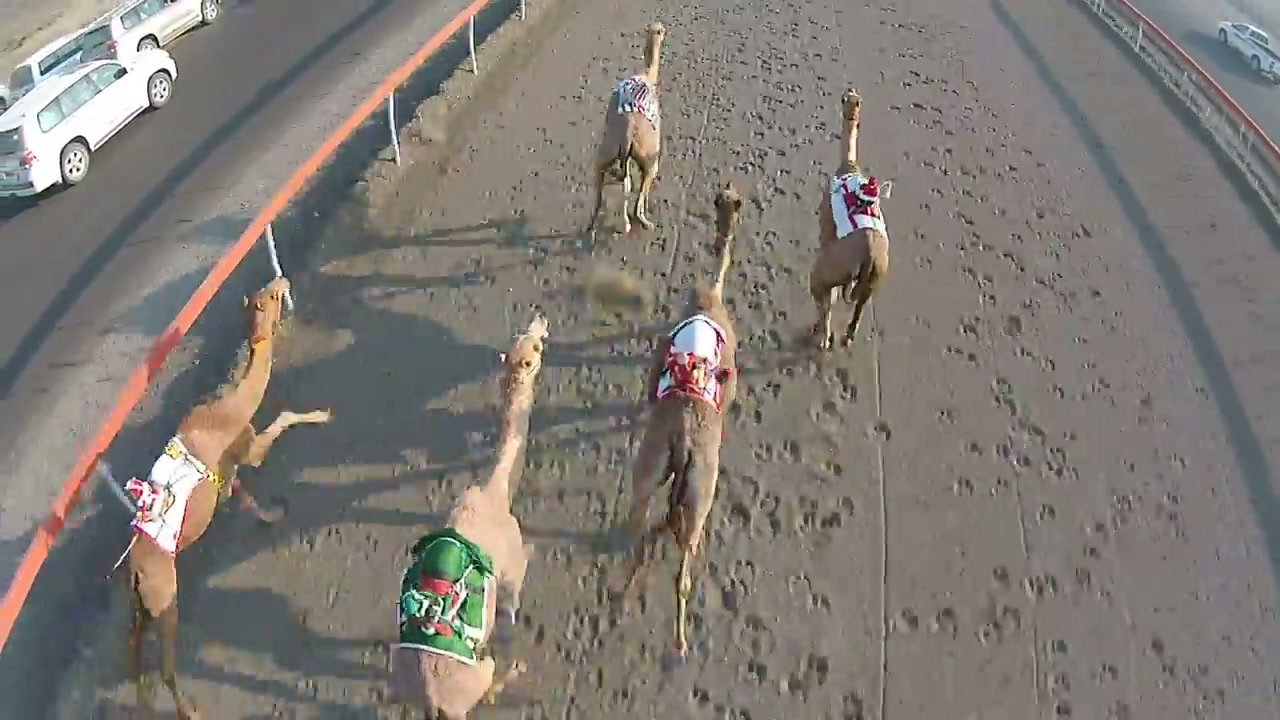animal_foot_print: (617, 94, 840, 704), (526, 46, 715, 706), (900, 68, 1104, 638), (808, 346, 910, 533)
